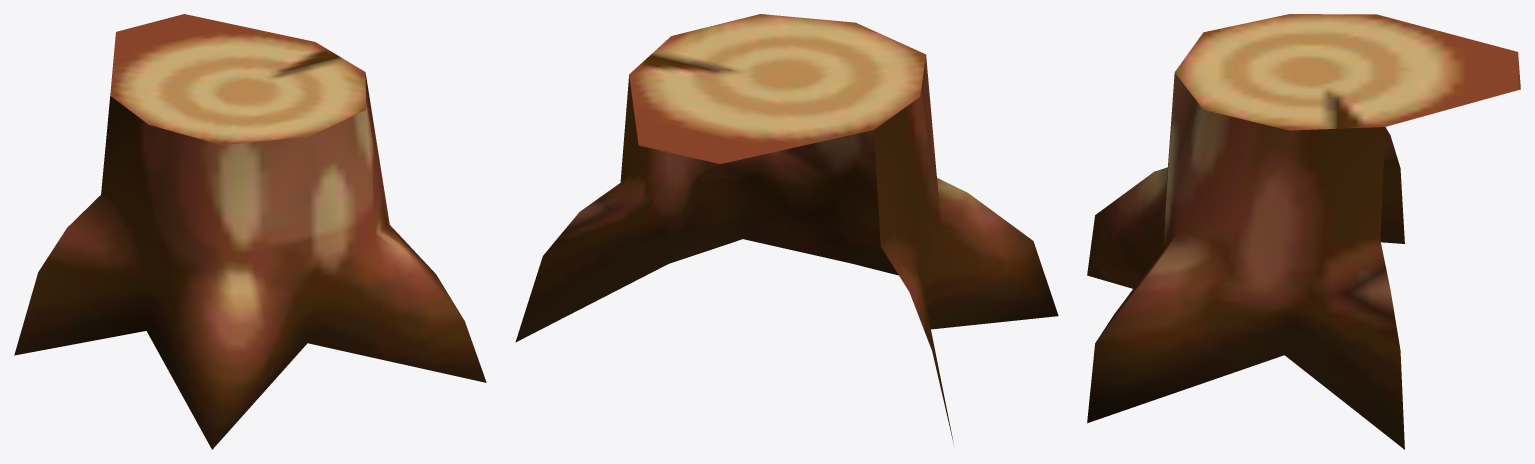
Rendered from fg_treeB_4_b.dae.
3 views of the same model, side by side, from view 1: azimuth 30°, elevation 25°; view 2: azimuth 150°, elevation 25°; view 3: azimuth 270°, elevation 25° (orthographic). The views are drawn at different scales.
Visible parts, largest first — view 1: fg_treeB_4_b; view 2: fg_treeB_4_b; view 3: fg_treeB_4_b.
Boxes of the visible parts, x1,y1,x2,y2 form: fg_treeB_4_b: [14, 14, 486, 449]; fg_treeB_4_b: [515, 14, 1058, 444]; fg_treeB_4_b: [1087, 14, 1520, 449].
Size of the model in its own units: 31.18 by 19.55 by 27.75.
1 material, 1 textured.
